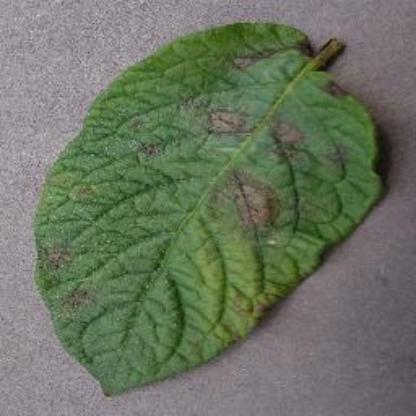Late-Blight: (32, 13, 398, 408)
